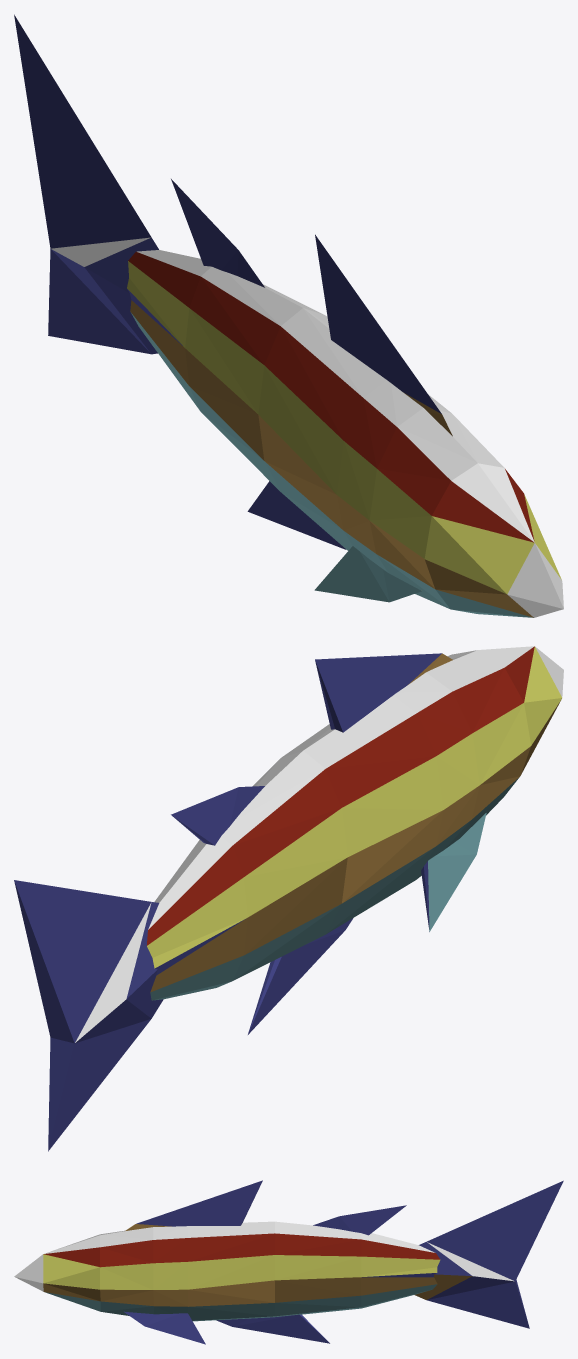
The model's file is Zippy_2.fbx.
3 views of the same model, one above another, from view 1: azimuth 30°, elevation 25°; view 2: azimuth 150°, elevation 25°; view 3: azimuth 270°, elevation 25° (orthographic). The views are drawn at different scales.
Visible parts, largest first — view 1: pasted__polySurface5; view 2: pasted__polySurface5; view 3: pasted__polySurface5.
Part boxes in pixels (x1,y1,x2,y2): pasted__polySurface5: (14, 14, 563, 617); pasted__polySurface5: (14, 646, 563, 1151); pasted__polySurface5: (14, 1180, 563, 1344).
Size of the model in its own units: 0.713 by 1.93 by 5.89.
